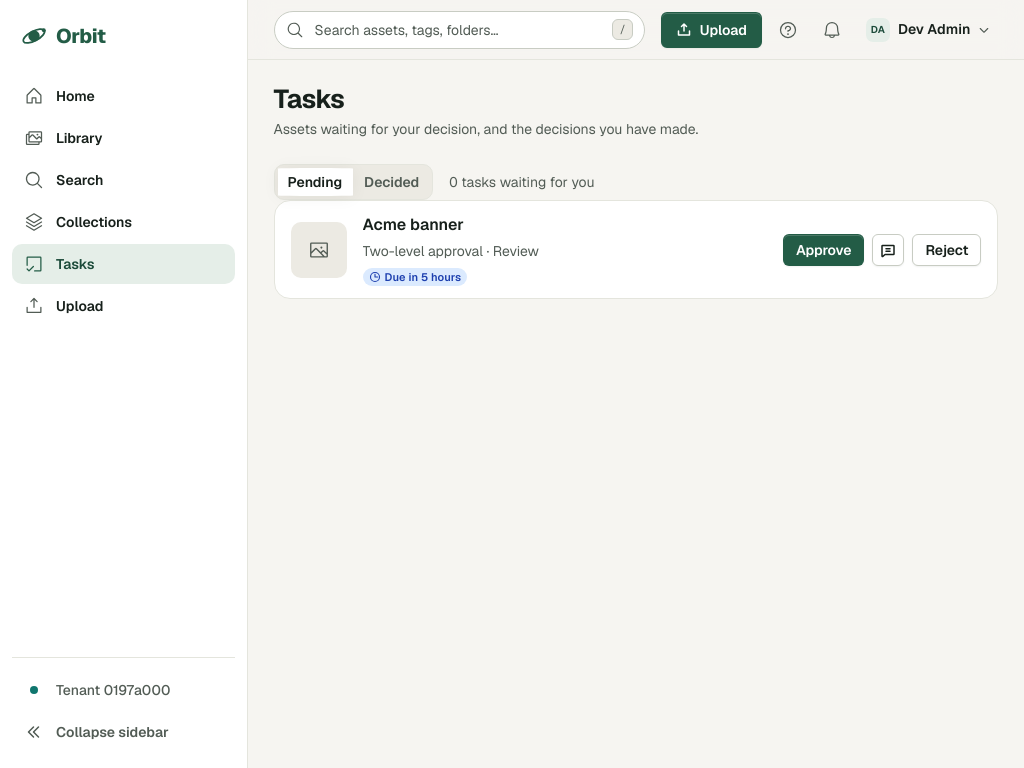
Test: Tasks inbox - deciding › reports a refused decision (someone else decided first) and refreshes the list
The width and height of the screenshot is (1024, 768).
Click the button "Approve".
click(824, 250)  # box [783,234,864,266]
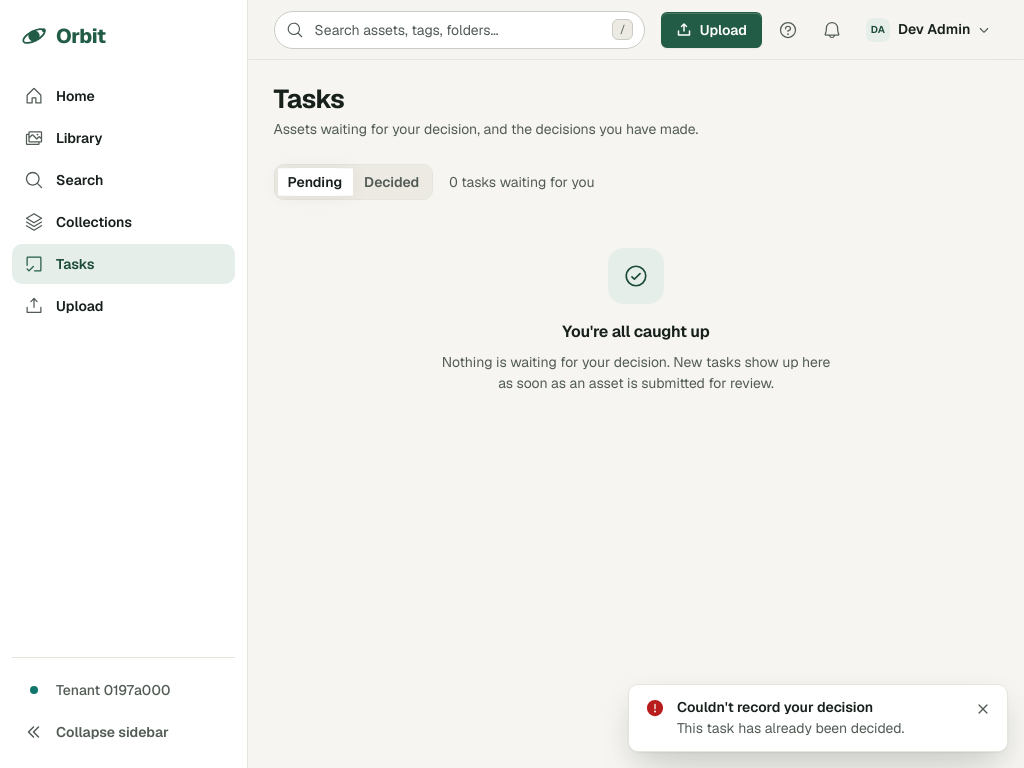
Now the text "Couldn't record your decision" is shown, box [677,698,873,716]
Now the text "This task has already been decided." is shown, box [677,719,904,737]
Now the heading "You're all caught up" is shown, box [562,320,710,344]
